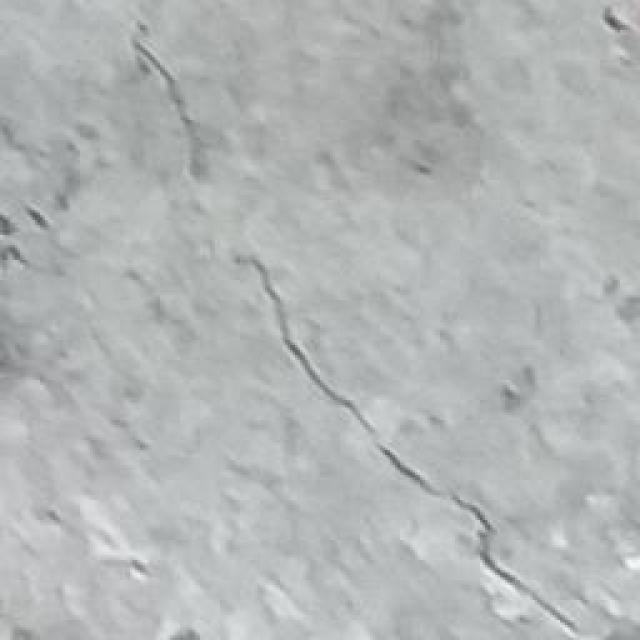Diagonal: (118, 5, 594, 636)
